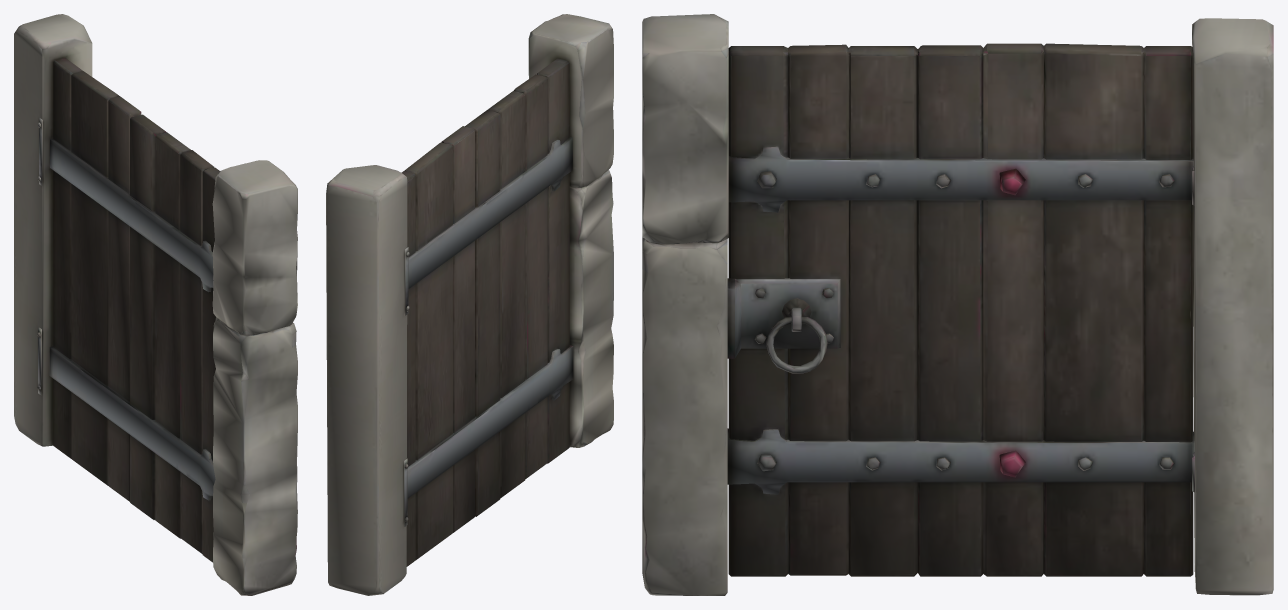
File: gate.glb
3 views of the same model, side by side, from view 1: azimuth 30°, elevation 25°; view 2: azimuth 150°, elevation 25°; view 3: azimuth 270°, elevation 25° (orthographic). The views are drawn at different scales.
Parts seen in each view (by area): view 1: model; view 2: model; view 3: model.
Boxes of the visible parts, x1,y1,x2,y2 form: model: [14, 14, 297, 595]; model: [326, 14, 613, 595]; model: [642, 14, 1273, 595].
Bounding box in the file's own units: 0.1452 × 1 × 1.04.
Materials: 1 (1 with a texture image).
